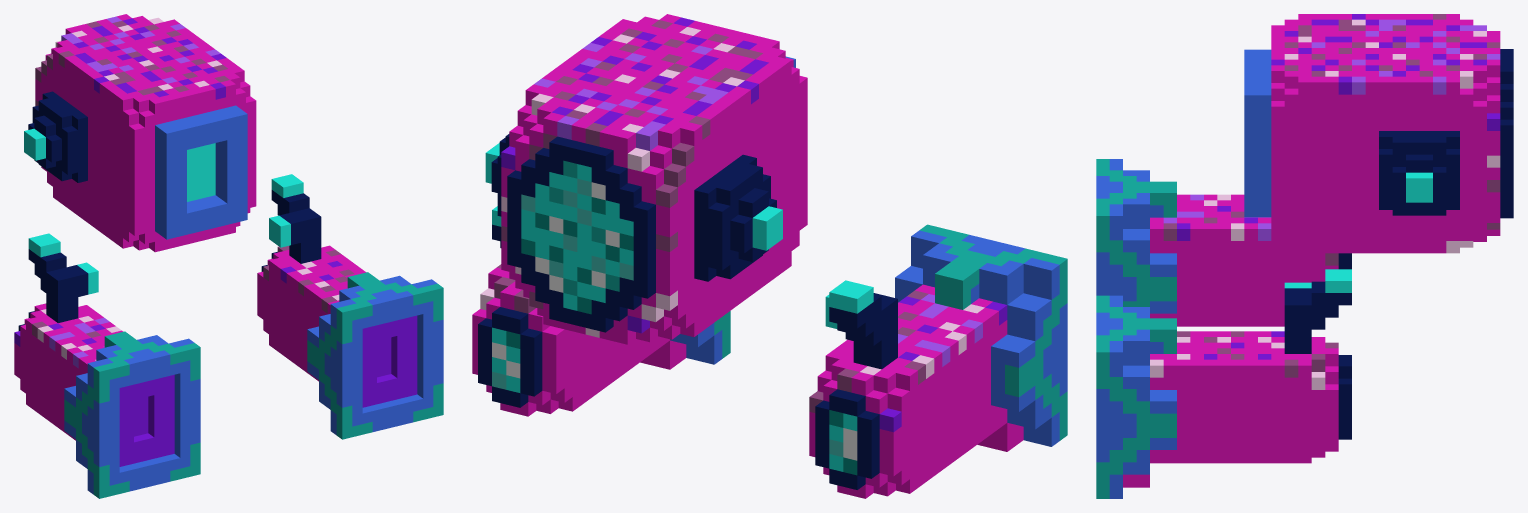
The model's file is Character_Drone_New_New.obj.
3 views of the same model, side by side, from view 1: azimuth 30°, elevation 25°; view 2: azimuth 150°, elevation 25°; view 3: azimuth 270°, elevation 25° (orthographic). The views are drawn at different scales.
Bounding box in the file's own units: 3.4 × 2.9 × 3.1.
Materials: 1 (1 with a texture image).
